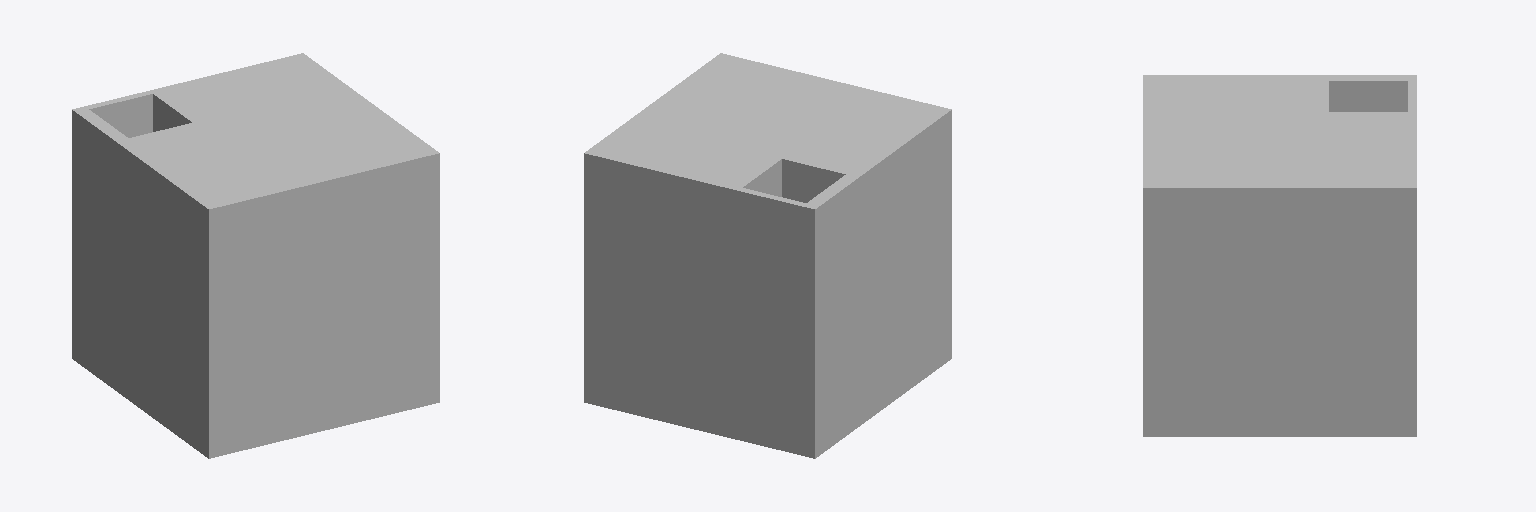
Rendered from BottomHalfCabinet_Backup (1).obj.
The picture shows the model from 3 angles: view 1: azimuth 30°, elevation 25°; view 2: azimuth 150°, elevation 25°; view 3: azimuth 270°, elevation 25°; orthographic projection.
Visible parts, largest first — view 1: BottomHalfCabinet_Backup (1); view 2: BottomHalfCabinet_Backup (1); view 3: BottomHalfCabinet_Backup (1).
Boxes of the visible parts, box(x1,y1,x2,y2) form: BottomHalfCabinet_Backup (1): box(72, 53, 439, 458); BottomHalfCabinet_Backup (1): box(584, 53, 951, 458); BottomHalfCabinet_Backup (1): box(1143, 75, 1416, 436).
Size of the model in its own units: 1.88 by 1.94 by 1.93.